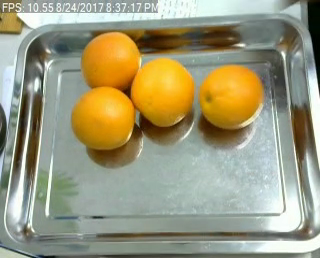Orange: (132, 57, 195, 126), (199, 65, 265, 130), (70, 85, 135, 149), (80, 30, 142, 90)
